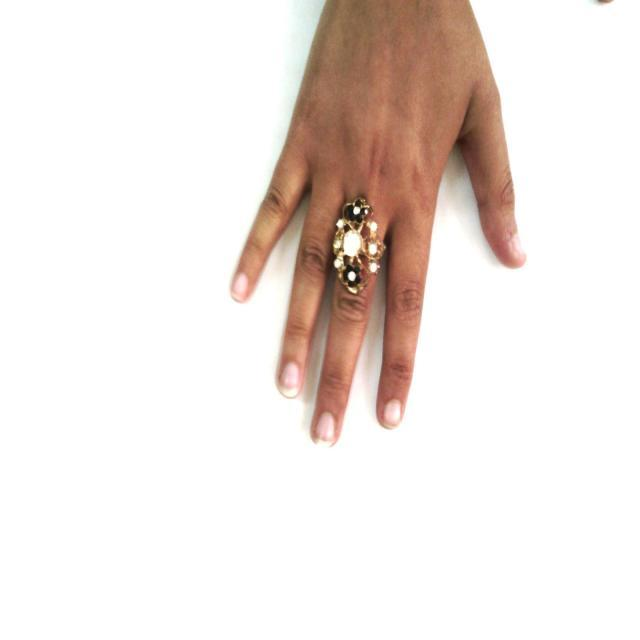Fingernail: (280, 362, 300, 395), (316, 412, 335, 445), (383, 400, 401, 425), (510, 235, 525, 260), (233, 275, 248, 299)
